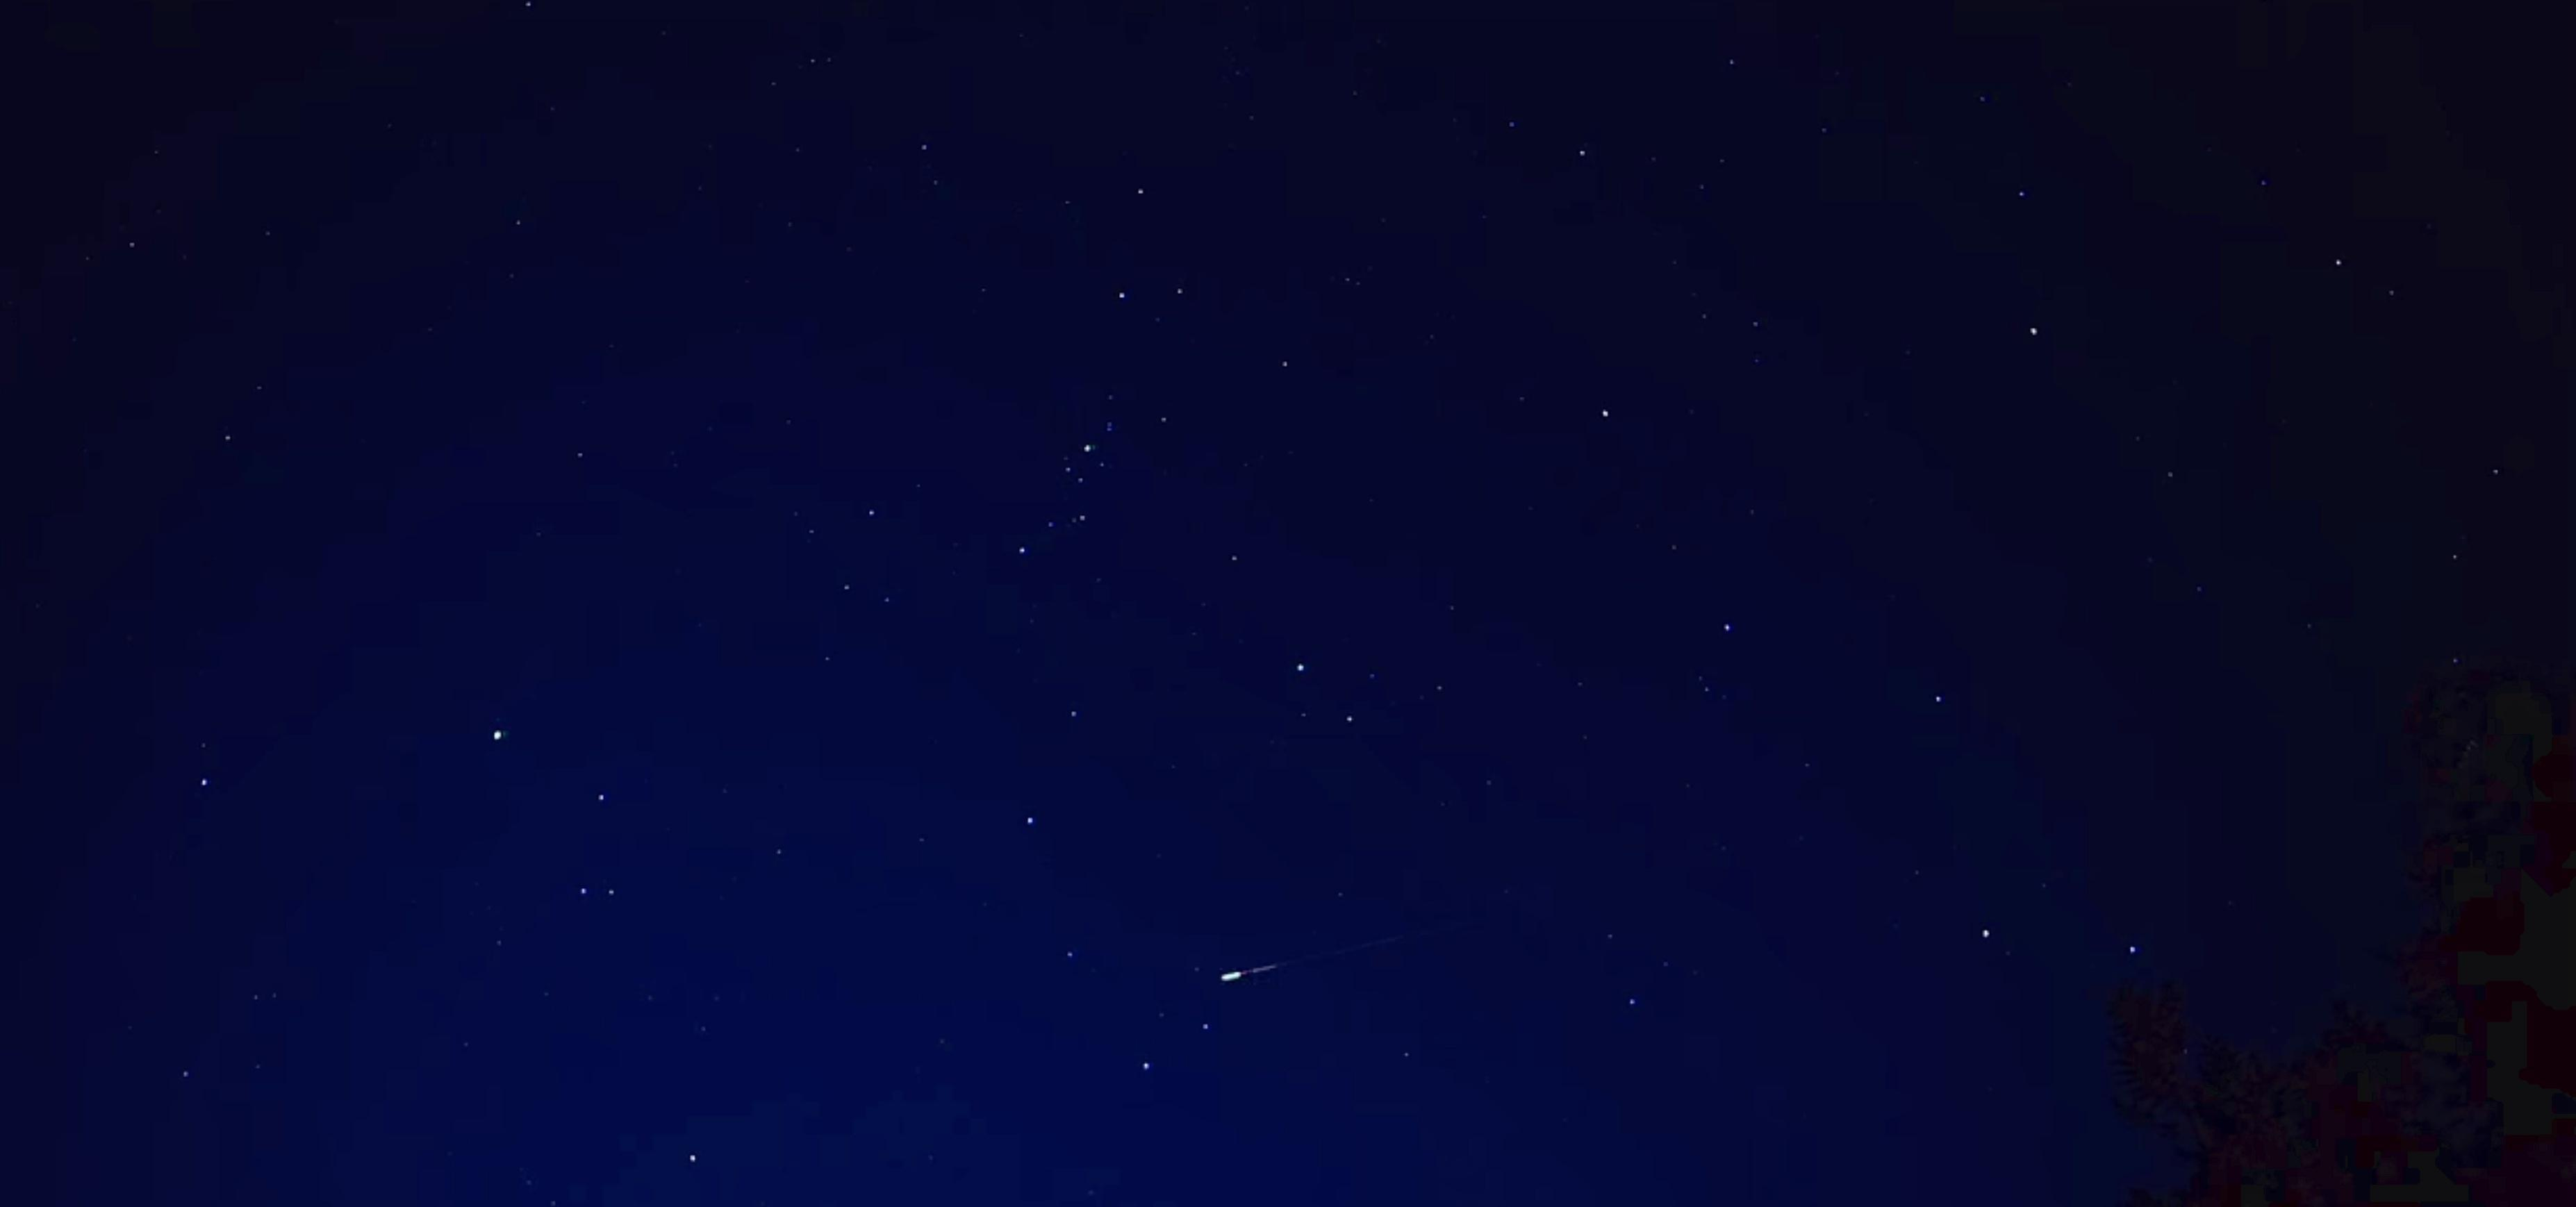meteorite: (1168, 911, 1452, 995)
